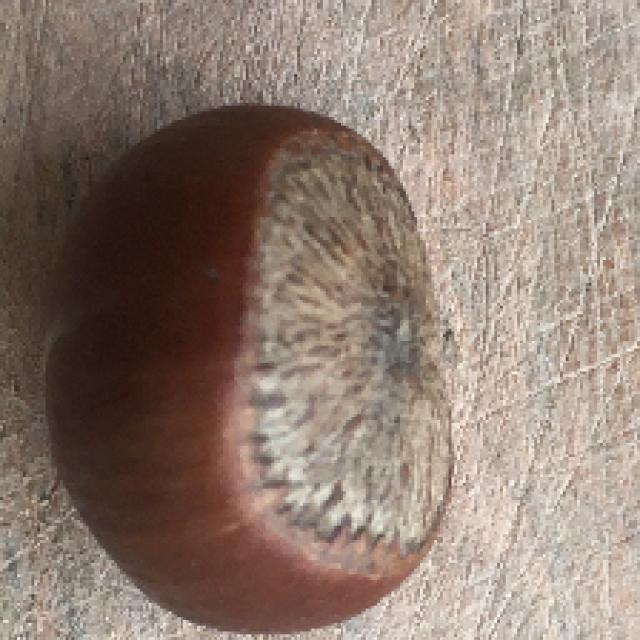DamagedHazelnut: (43, 107, 454, 637)
